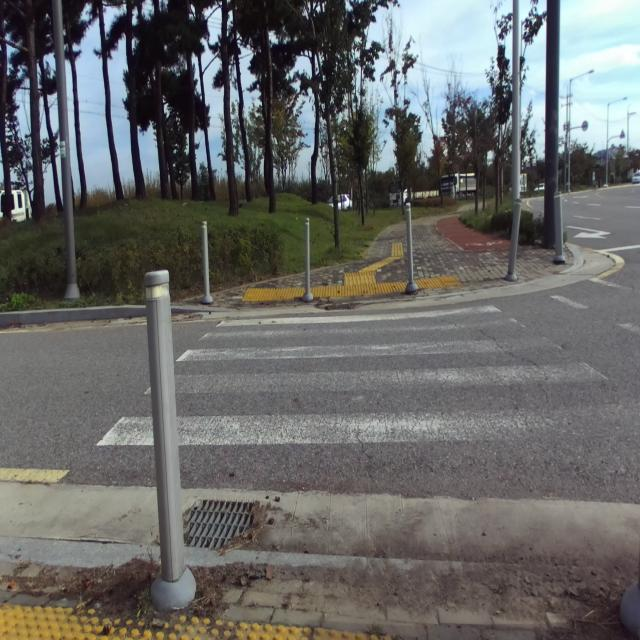횡단보도: (97, 306, 628, 447)
